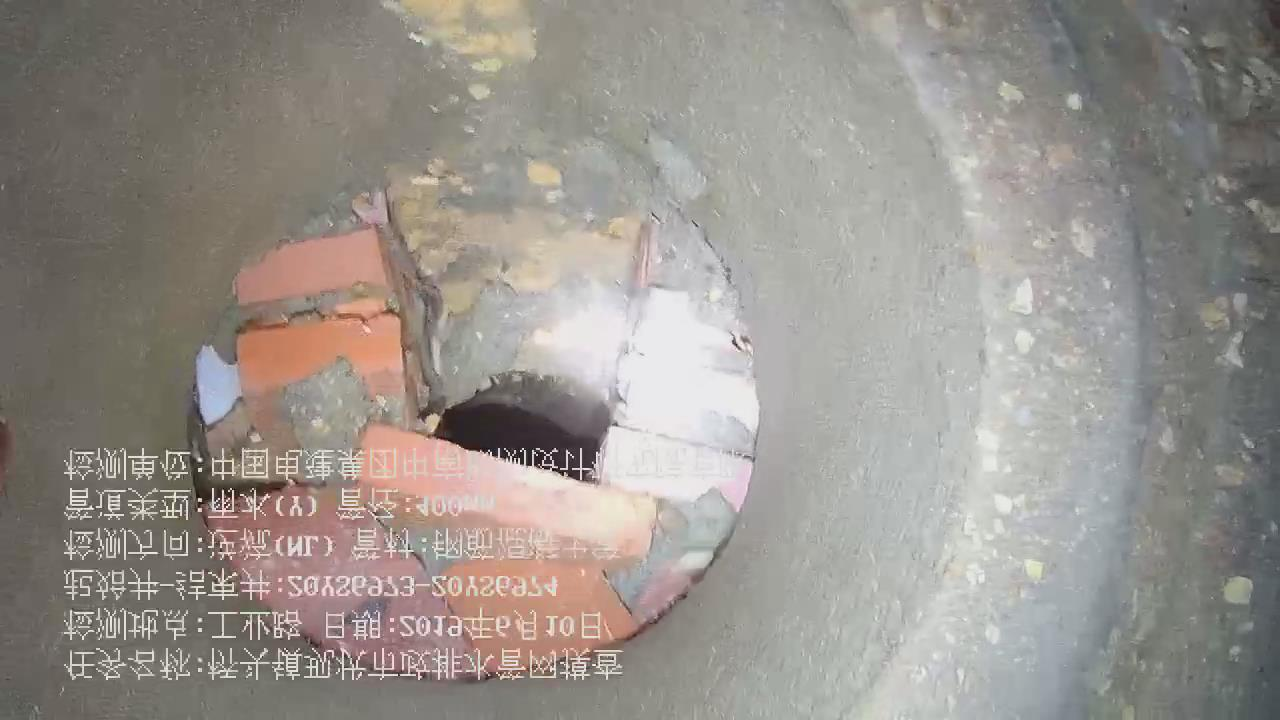CQBG: (185, 150, 760, 680)
